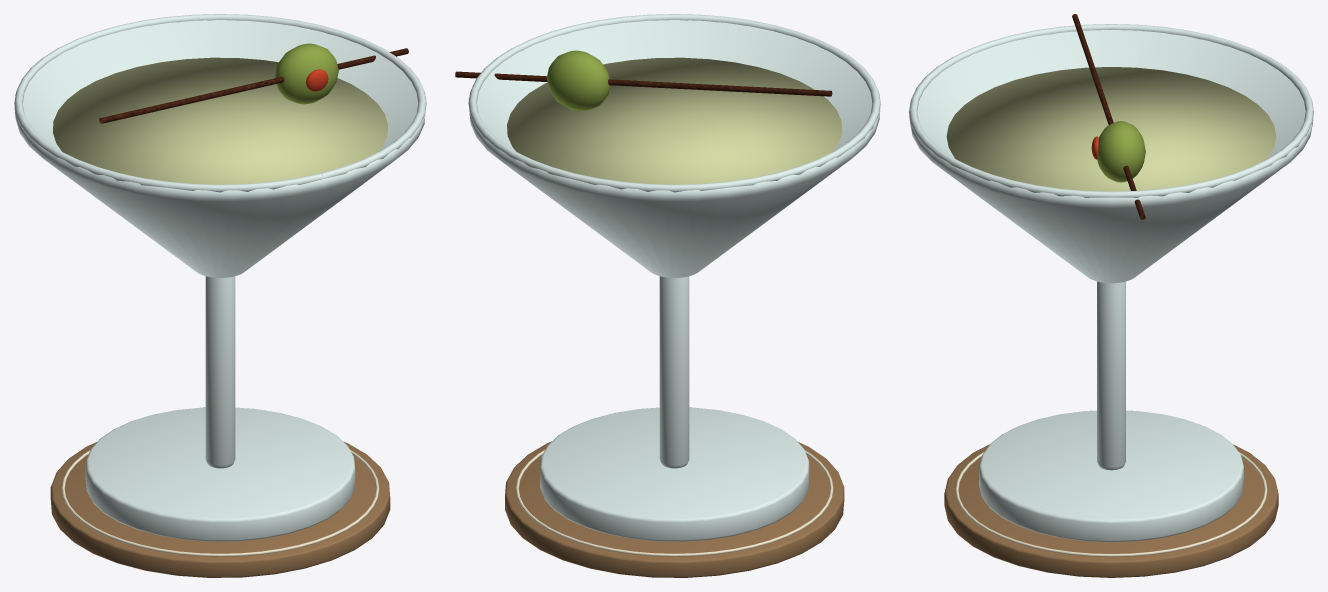
The model's file is drink-martini.glb.
3 views of the same model, side by side, from view 1: azimuth 30°, elevation 25°; view 2: azimuth 150°, elevation 25°; view 3: azimuth 270°, elevation 25° (orthographic).
Parts seen in each view (by area): view 1: drink-martini; view 2: drink-martini; view 3: drink-martini.
Part boxes in pixels (left/top/right/bottom): drink-martini: left=14, top=14, right=426, bottom=577; drink-martini: left=455, top=14, right=880, bottom=577; drink-martini: left=909, top=14, right=1313, bottom=577.
Bounding box in the file's own units: 0.4146 × 0.4526 × 0.388.
7 materials, 1 textured.
